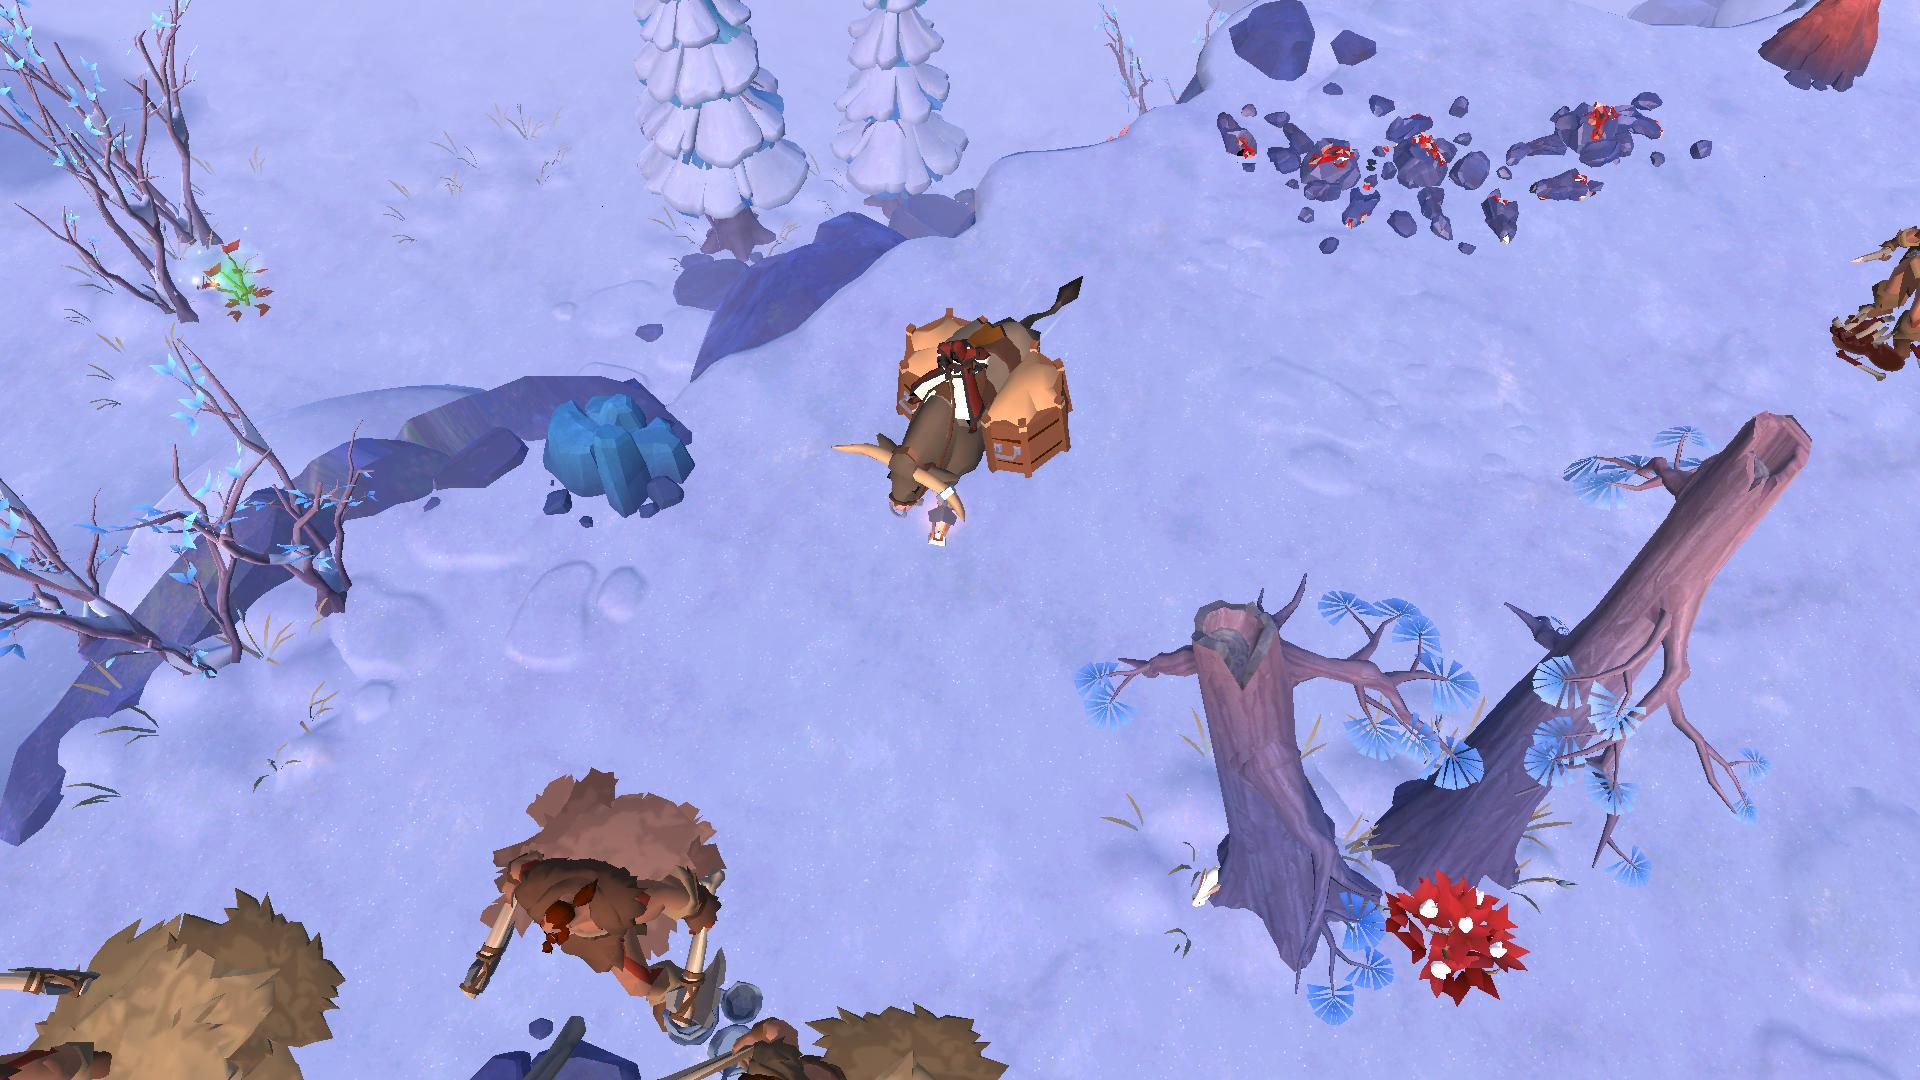enemy_factionKeeper: (468, 858, 723, 1043), (1869, 191, 1920, 364)
fiber_t5: (1381, 868, 1522, 1009)
rock_t4: (541, 375, 692, 517)
rock_t5: (1760, 0, 1894, 96)
